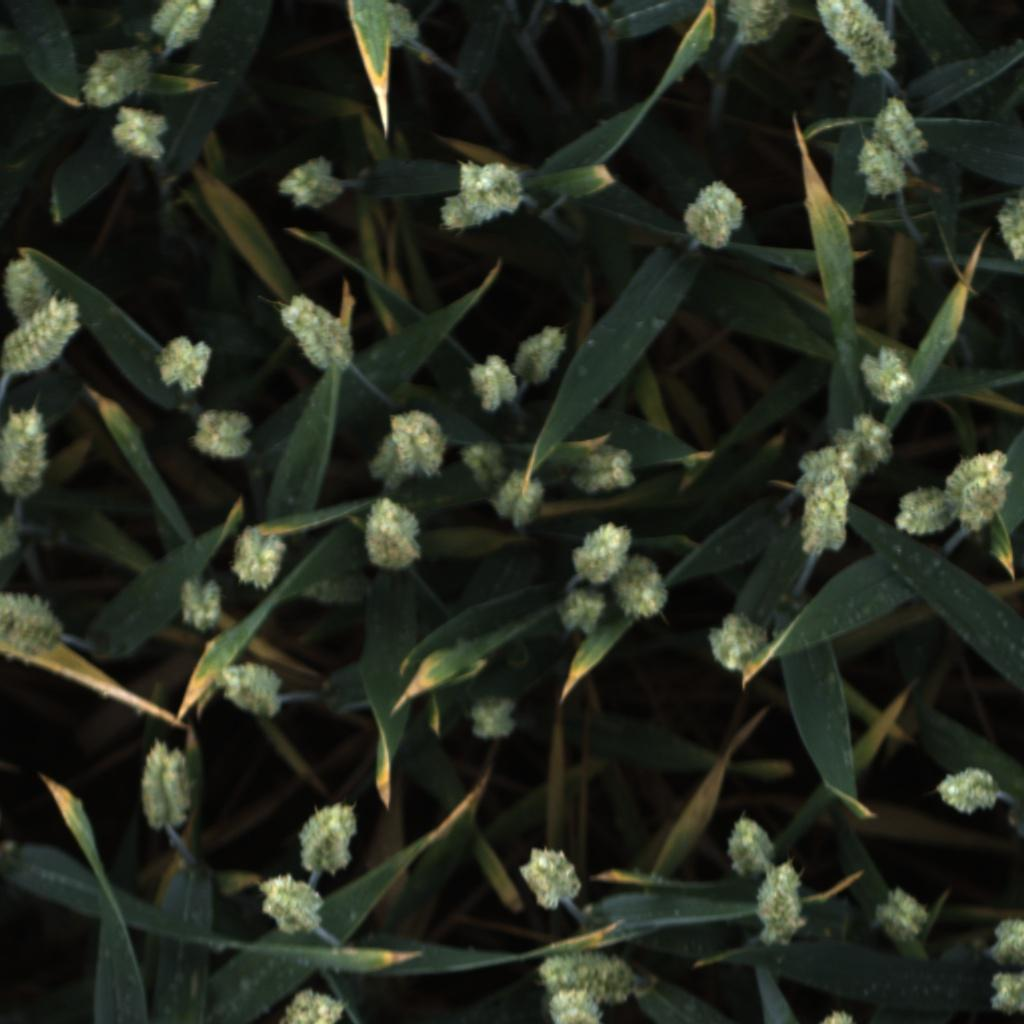0-0: (522, 944, 637, 1010), (0, 295, 85, 381), (811, 1, 900, 83), (277, 292, 356, 377), (135, 734, 196, 842), (943, 447, 1017, 534), (96, 93, 179, 167), (65, 41, 156, 108), (294, 800, 367, 882), (0, 580, 72, 660), (0, 402, 55, 504), (246, 872, 332, 936), (752, 859, 811, 952), (490, 468, 564, 540), (680, 178, 750, 254), (822, 411, 900, 478), (362, 494, 423, 574), (516, 844, 585, 914), (568, 518, 643, 582), (155, 325, 221, 397), (0, 246, 61, 323), (797, 475, 851, 561), (386, 405, 448, 479), (714, 806, 775, 881), (214, 660, 288, 721), (458, 158, 527, 221), (709, 609, 772, 678), (857, 344, 918, 413), (793, 445, 864, 504), (276, 153, 346, 212), (867, 95, 931, 159), (870, 885, 932, 951), (563, 445, 638, 498), (720, 0, 797, 51), (614, 554, 672, 621), (228, 527, 290, 589), (933, 765, 1002, 820), (170, 573, 229, 637), (464, 351, 523, 413), (891, 484, 960, 537), (513, 322, 569, 387), (857, 135, 913, 199), (189, 406, 254, 460), (350, 0, 420, 50), (147, 0, 214, 51), (454, 431, 509, 492), (294, 569, 377, 609), (364, 427, 414, 491), (274, 985, 351, 1024), (556, 586, 608, 641), (977, 963, 1024, 1023), (466, 692, 519, 743), (537, 988, 608, 1024), (985, 911, 1024, 971), (434, 193, 492, 230), (994, 195, 1024, 263), (0, 516, 21, 560), (817, 1007, 857, 1024)
